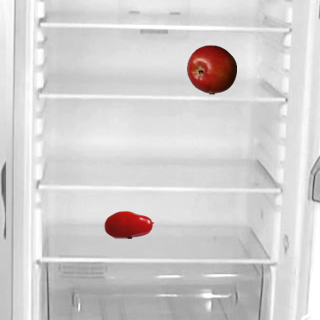Apple Braeburn: (186, 44, 236, 94)
Tomato 2: (103, 199, 153, 249)
